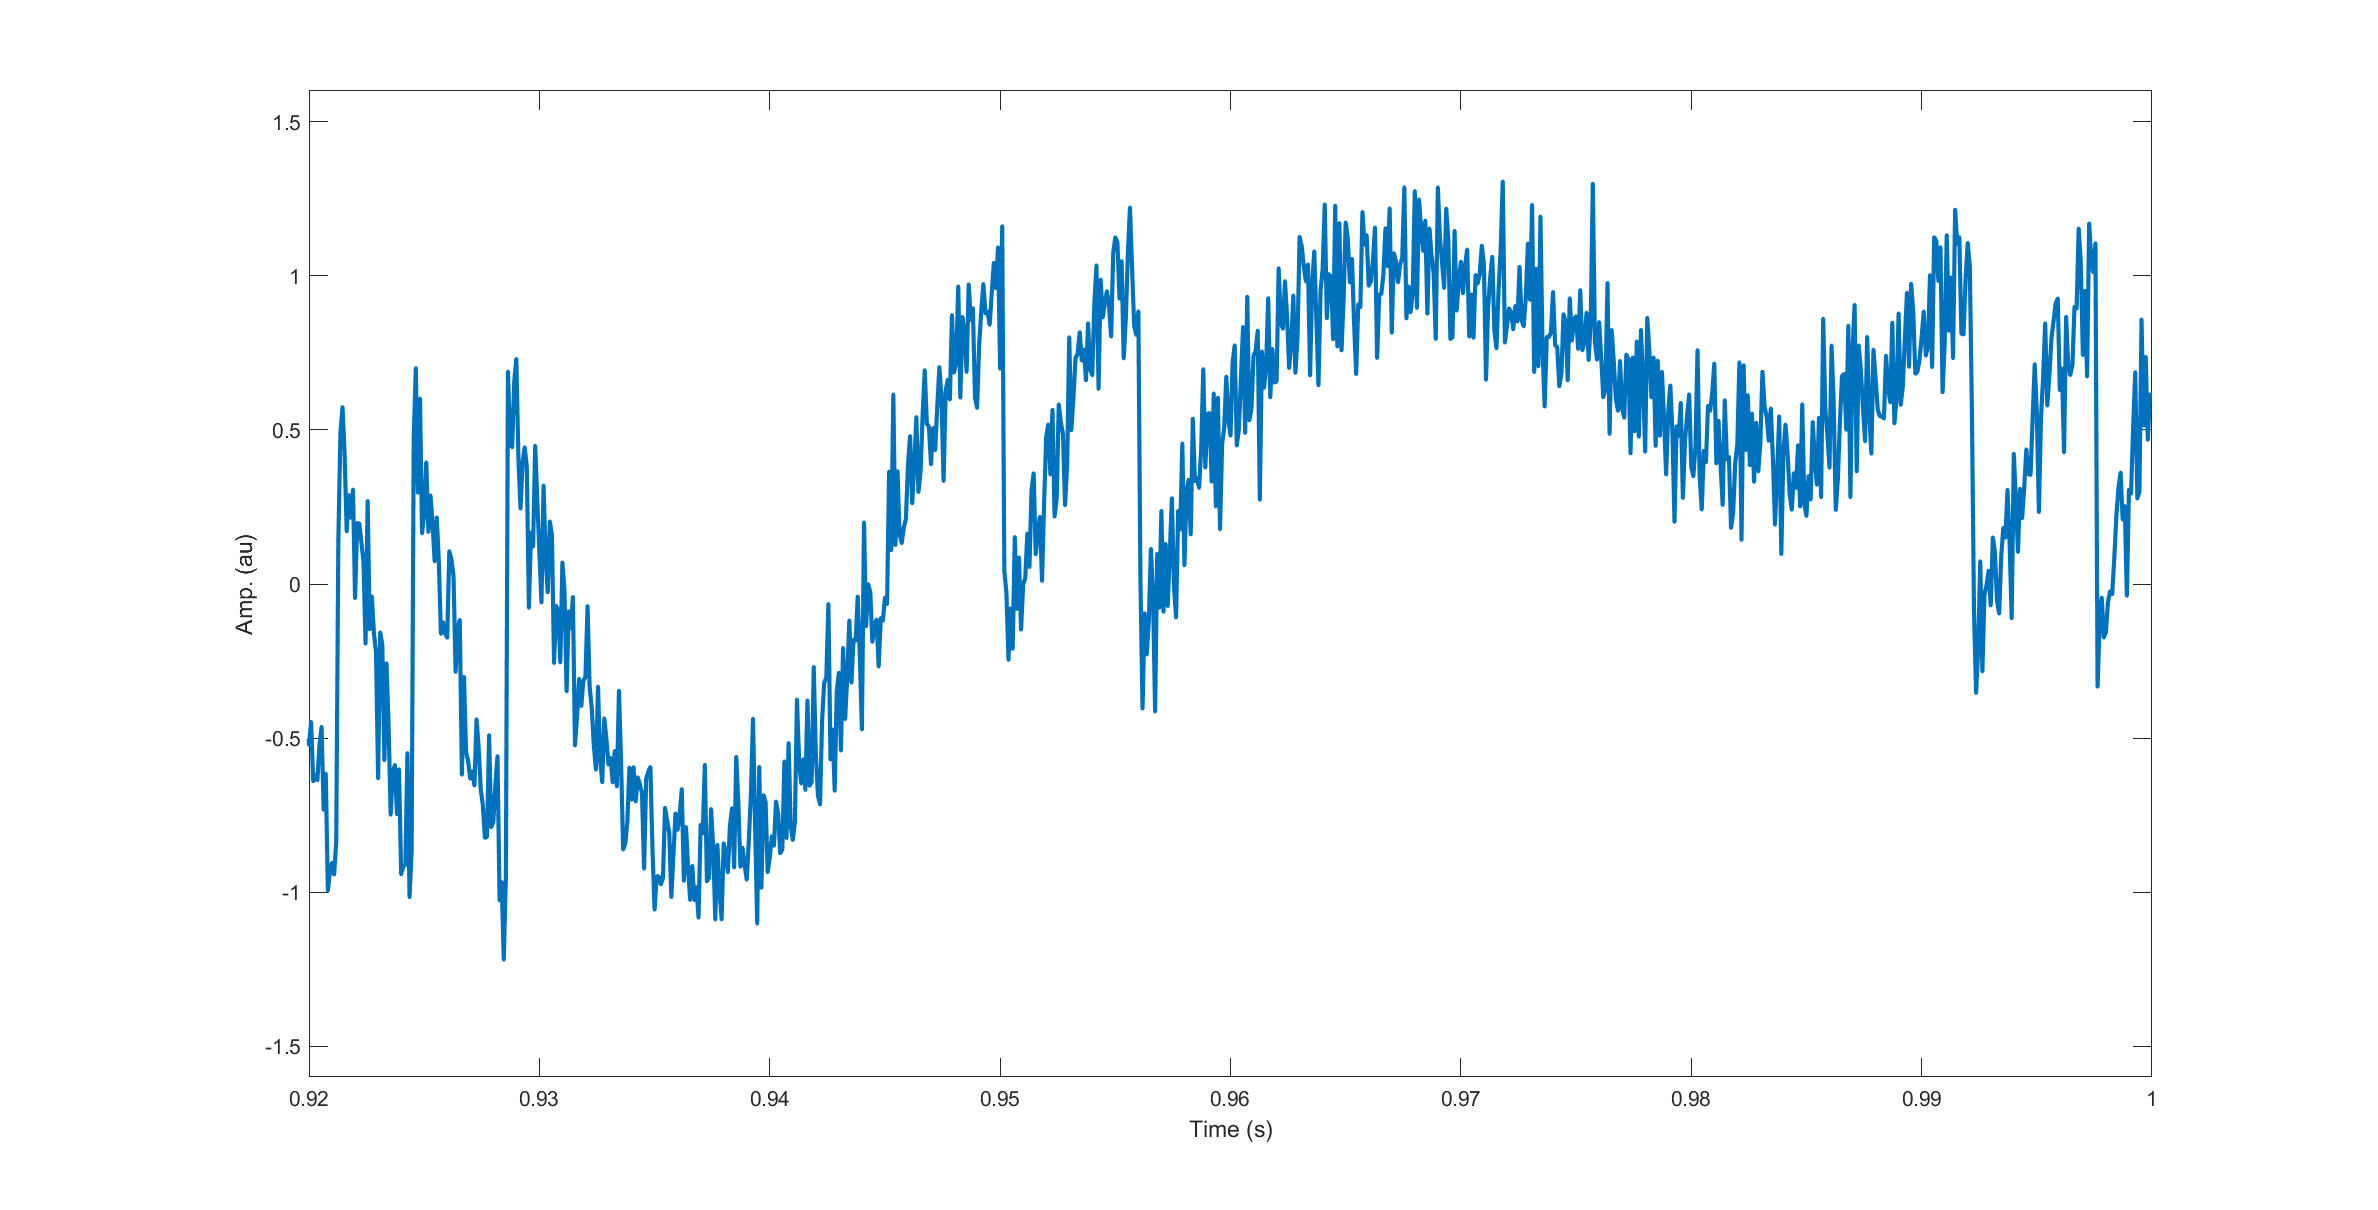negative_fringe: (491, 349, 633, 968), (400, 355, 481, 900), (321, 394, 403, 895)
positive_fringe: (1830, 187, 1988, 702), (1014, 198, 1157, 727), (881, 213, 1012, 654), (1997, 215, 2109, 685)
